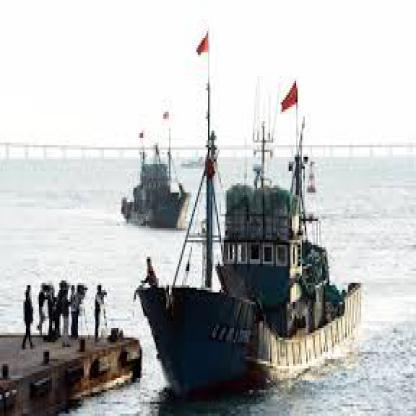Ship: (126, 130, 370, 401), (110, 101, 195, 242)
